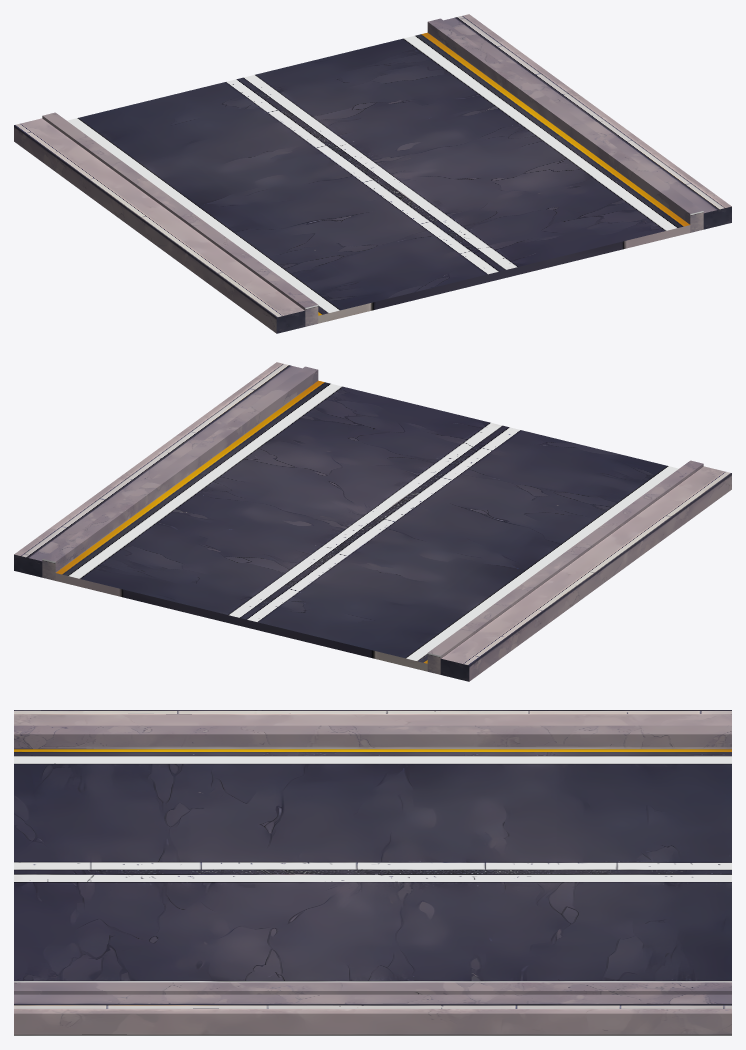
Rendered from Road1a.glb.
The picture shows the model from 3 angles, top to bottom: view 1: azimuth 30°, elevation 25°; view 2: azimuth 150°, elevation 25°; view 3: azimuth 270°, elevation 25°; orthographic projection. The views are drawn at different scales.
Parts seen in each view (by area): view 1: Road1; view 2: Road1; view 3: Road1.
Boxes of the visible parts, x1=… form: Road1: x1=14, y1=14, x2=731, y2=333; Road1: x1=14, y1=362, x2=731, y2=681; Road1: x1=14, y1=710, x2=731, y2=1035.
Size of the model in its own units: 3.66 by 0.1449 by 3.66.
1 material, 1 textured.
